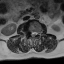CCS_normal: (32, 29, 34, 39)
LFS_normal: (36, 29, 39, 36)
LLS_normal: (34, 29, 36, 37)
RFS_severe_stenosis: (28, 29, 30, 36)
RLS_normal: (30, 30, 32, 38)
